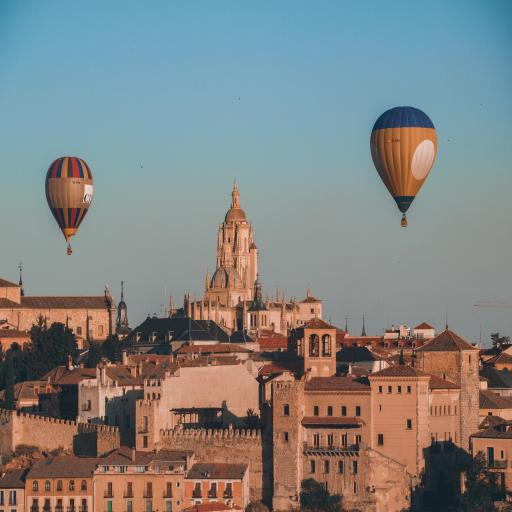hot air ballon: (370, 105, 437, 226), (45, 156, 94, 255)
